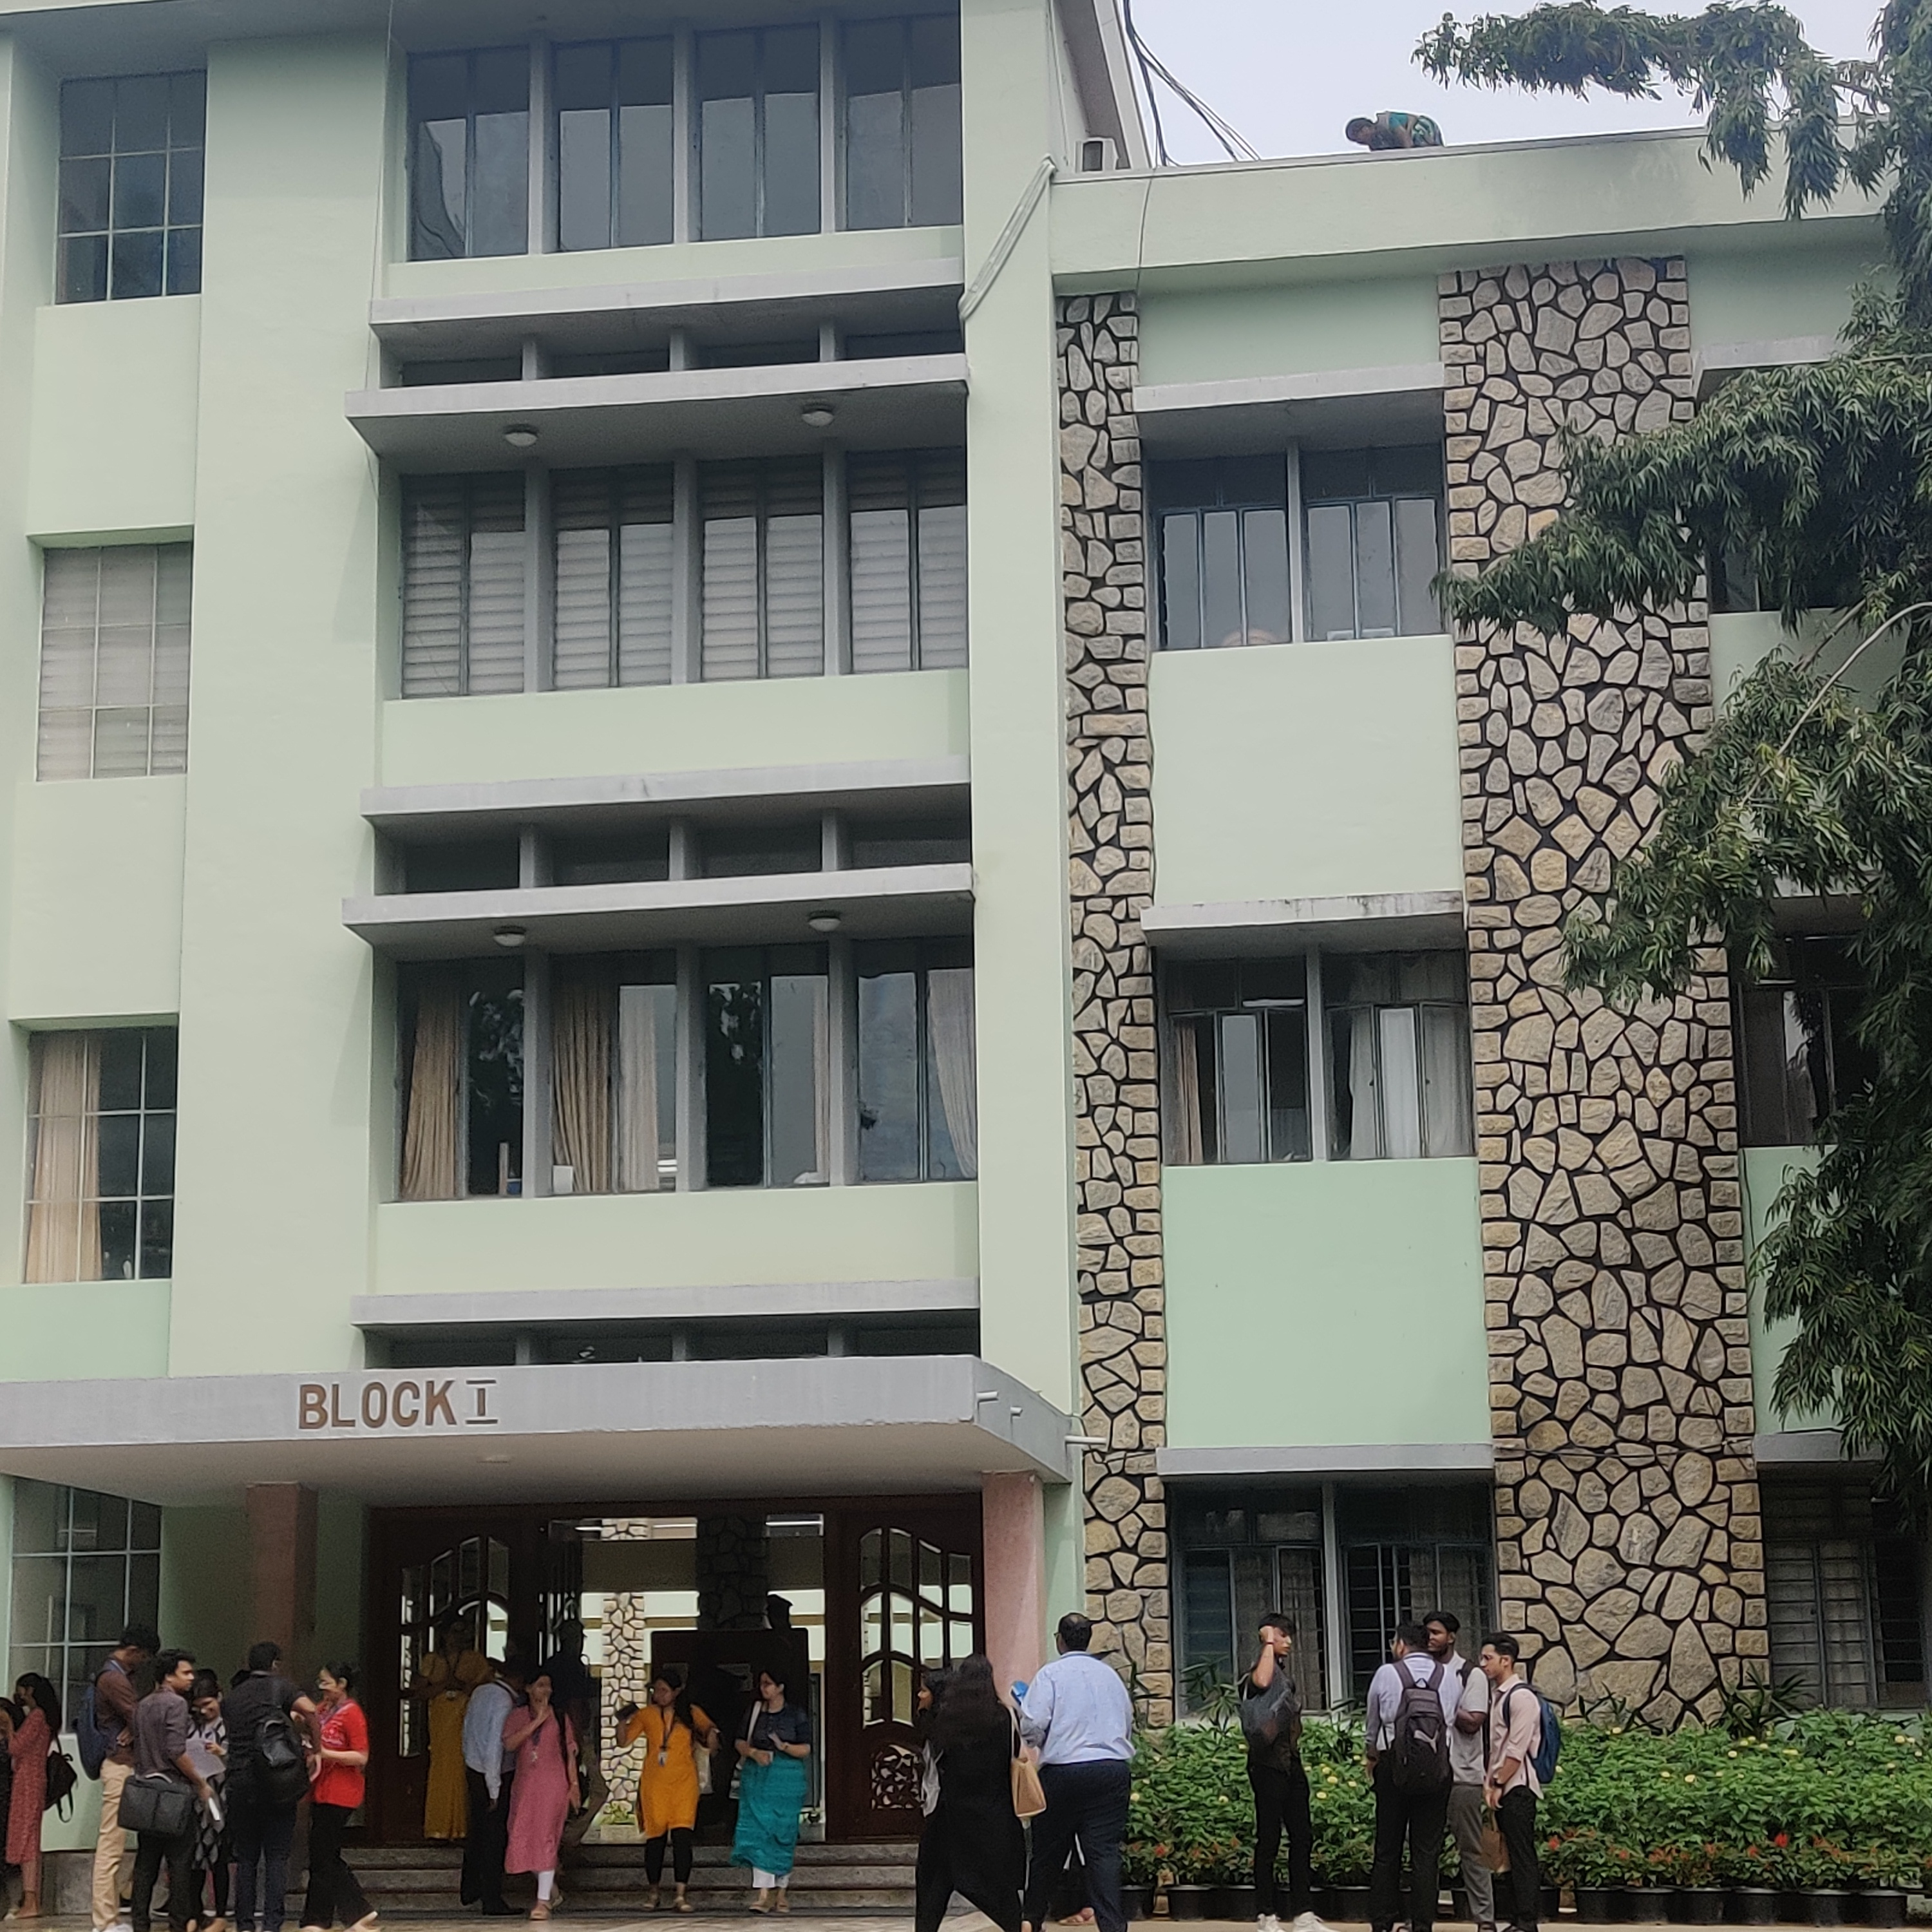Block 1: (9, 4, 1932, 1638)
